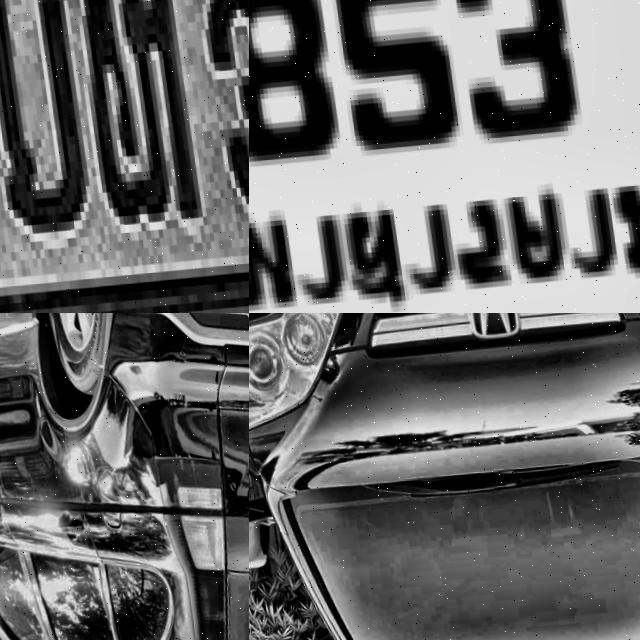license-plate: (249, 0, 640, 313), (0, 0, 249, 313)
